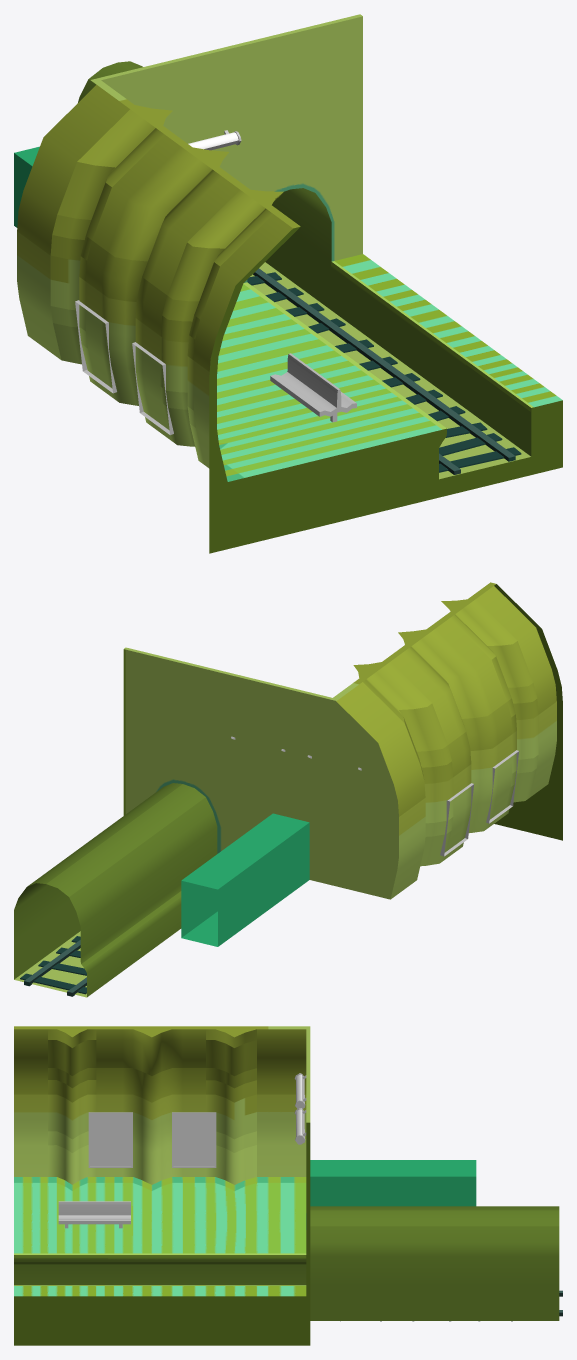
Rendered from station 9.fbx.
The picture shows the model from 3 angles, top to bottom: view 1: azimuth 30°, elevation 25°; view 2: azimuth 150°, elevation 25°; view 3: azimuth 270°, elevation 25°; orthographic projection. The views are drawn at different scales.
Parts seen in each view (by area): view 1: env_8, track_10, pCube88, pCube83; view 2: env_8, track_10; view 3: env_8, pCube82, pCube83, pCube88.
Boxes of the visible parts, bbox=[...] form: env_8: bbox=[14, 14, 562, 553]; track_10: bbox=[247, 268, 521, 474]; pCube88: bbox=[270, 353, 356, 422]; pCube83: bbox=[75, 300, 116, 393]; env_8: bbox=[14, 582, 562, 997]; track_10: bbox=[20, 936, 86, 996]; env_8: bbox=[14, 1026, 559, 1345]; pCube82: bbox=[88, 1112, 132, 1167]; pCube83: bbox=[172, 1112, 216, 1167]; pCube88: bbox=[58, 1201, 130, 1228].
Size of the model in its own units: 20.22 by 16.64 by 37.17.
